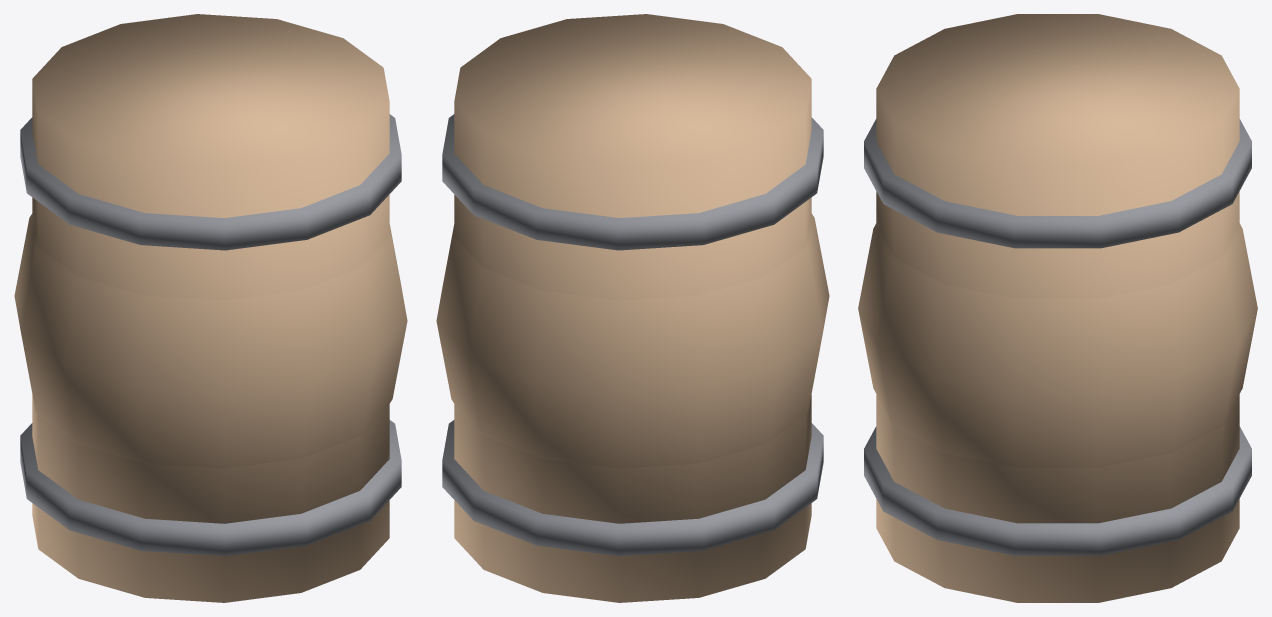
Rendered from barrel.glb.
The picture shows the model from 3 angles, left to right: view 1: azimuth 30°, elevation 25°; view 2: azimuth 150°, elevation 25°; view 3: azimuth 270°, elevation 25°; orthographic projection.
Parts seen in each view (by area): view 1: barrel; view 2: barrel; view 3: barrel.
Boxes of the visible parts, x1=… form: barrel: x1=14, y1=14, x2=407, y2=602; barrel: x1=436, y1=14, x2=829, y2=602; barrel: x1=858, y1=14, x2=1257, y2=602.
Size of the model in its own units: 0.6435 by 0.8 by 0.66.
